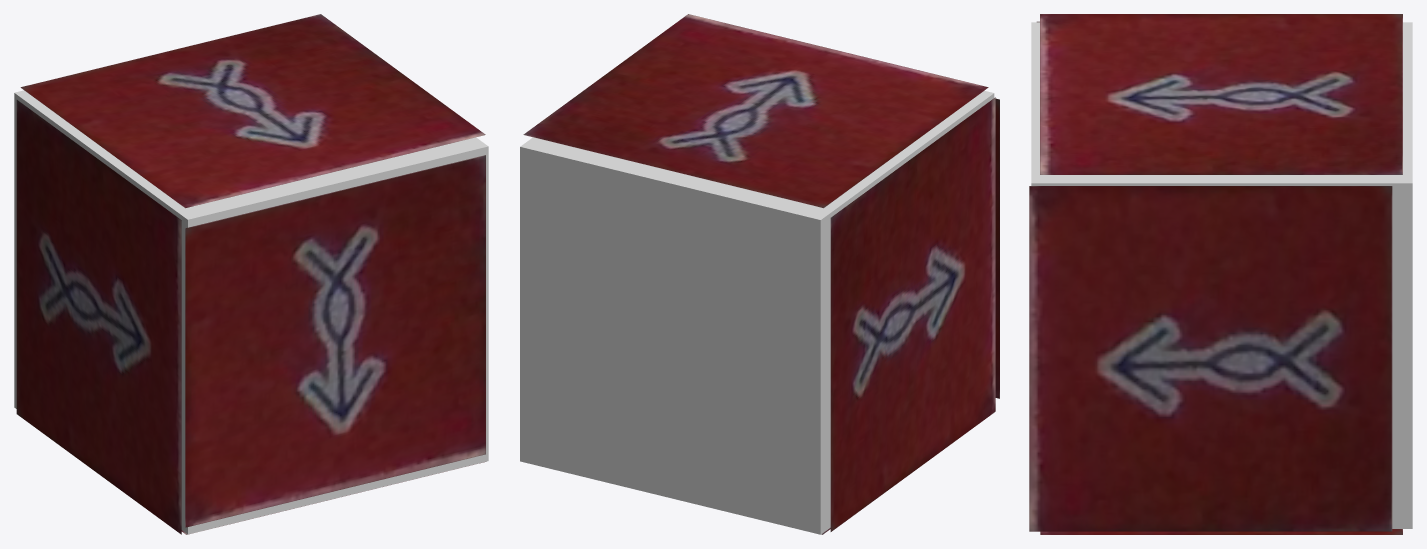
3 views of the same model, side by side, from view 1: azimuth 30°, elevation 25°; view 2: azimuth 150°, elevation 25°; view 3: azimuth 270°, elevation 25° (orthographic). The views are drawn at different scales.
Parts seen in each view (by area): view 1: R2.001, R2.002, R2, Link36; view 2: Link36, R2.002, R2, R2.001; view 3: R2.004, R2, Link36, R2.003.
Boxes of the visible parts, bbox=[...] form: R2.001: bbox=[185, 155, 485, 527]; R2.002: bbox=[16, 100, 181, 534]; R2: bbox=[20, 14, 485, 208]; Link36: bbox=[14, 90, 488, 534]; Link36: bbox=[520, 90, 994, 534]; R2.002: bbox=[830, 97, 995, 531]; R2: bbox=[523, 14, 988, 208]; R2.001: bbox=[995, 98, 999, 398]; R2.004: bbox=[1029, 186, 1392, 531]; R2: bbox=[1040, 14, 1402, 174]; Link36: bbox=[1031, 22, 1412, 528]; R2.003: bbox=[1040, 529, 1402, 534].
Bounding box in the file's own units: 0.3578 × 0.3529 × 0.3637.
1 material, 1 textured.
